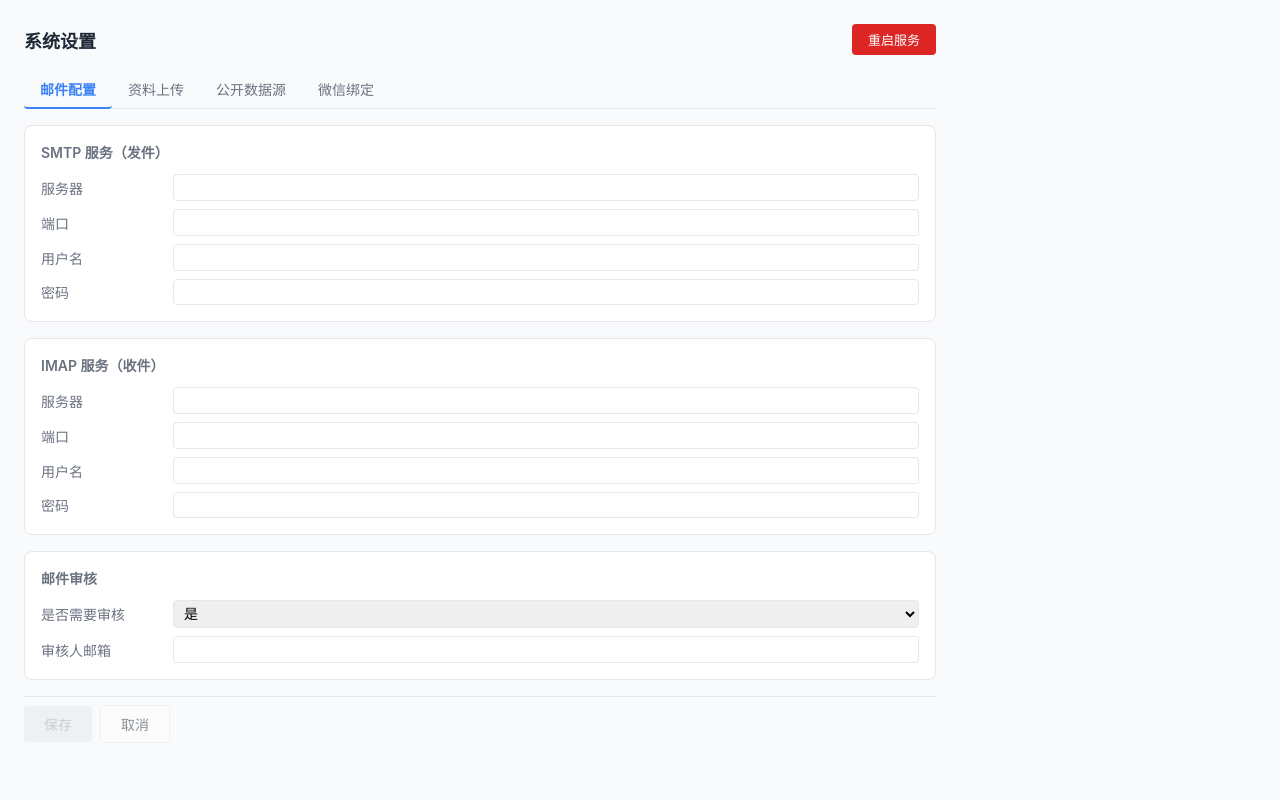
Test: Settings 资料上传 section › renders 资料上传 section with both upload inputs
The width and height of the screenshot is (1280, 800).
Click the tab with test id "tab-upload": (156, 90) [112,71,200,109]
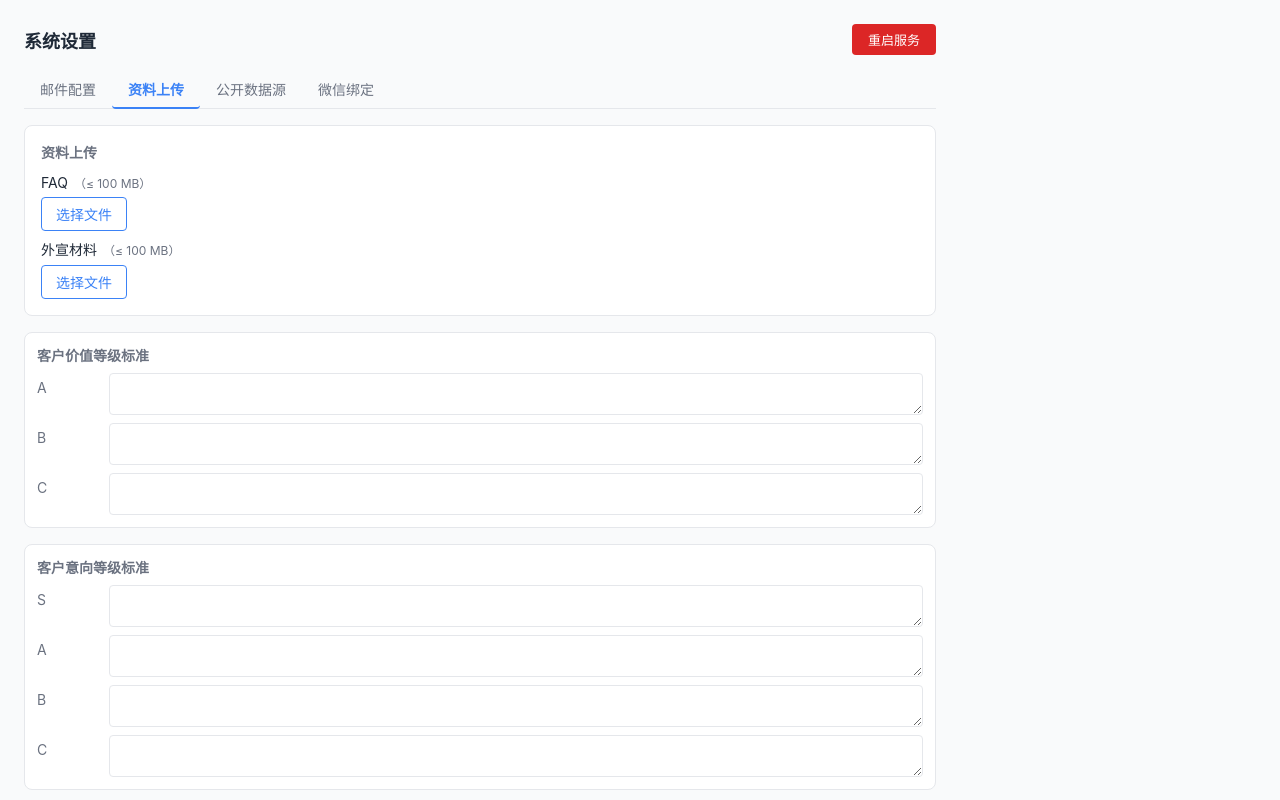
Check: the heading "资料上传" is shown, box [41,144,97,161]
Check: the element with test id "upload-faq-input" is shown, box [41,197,127,231]
Check: the element with test id "upload-attachment-moonstar-input" is shown, box [41,265,127,299]
